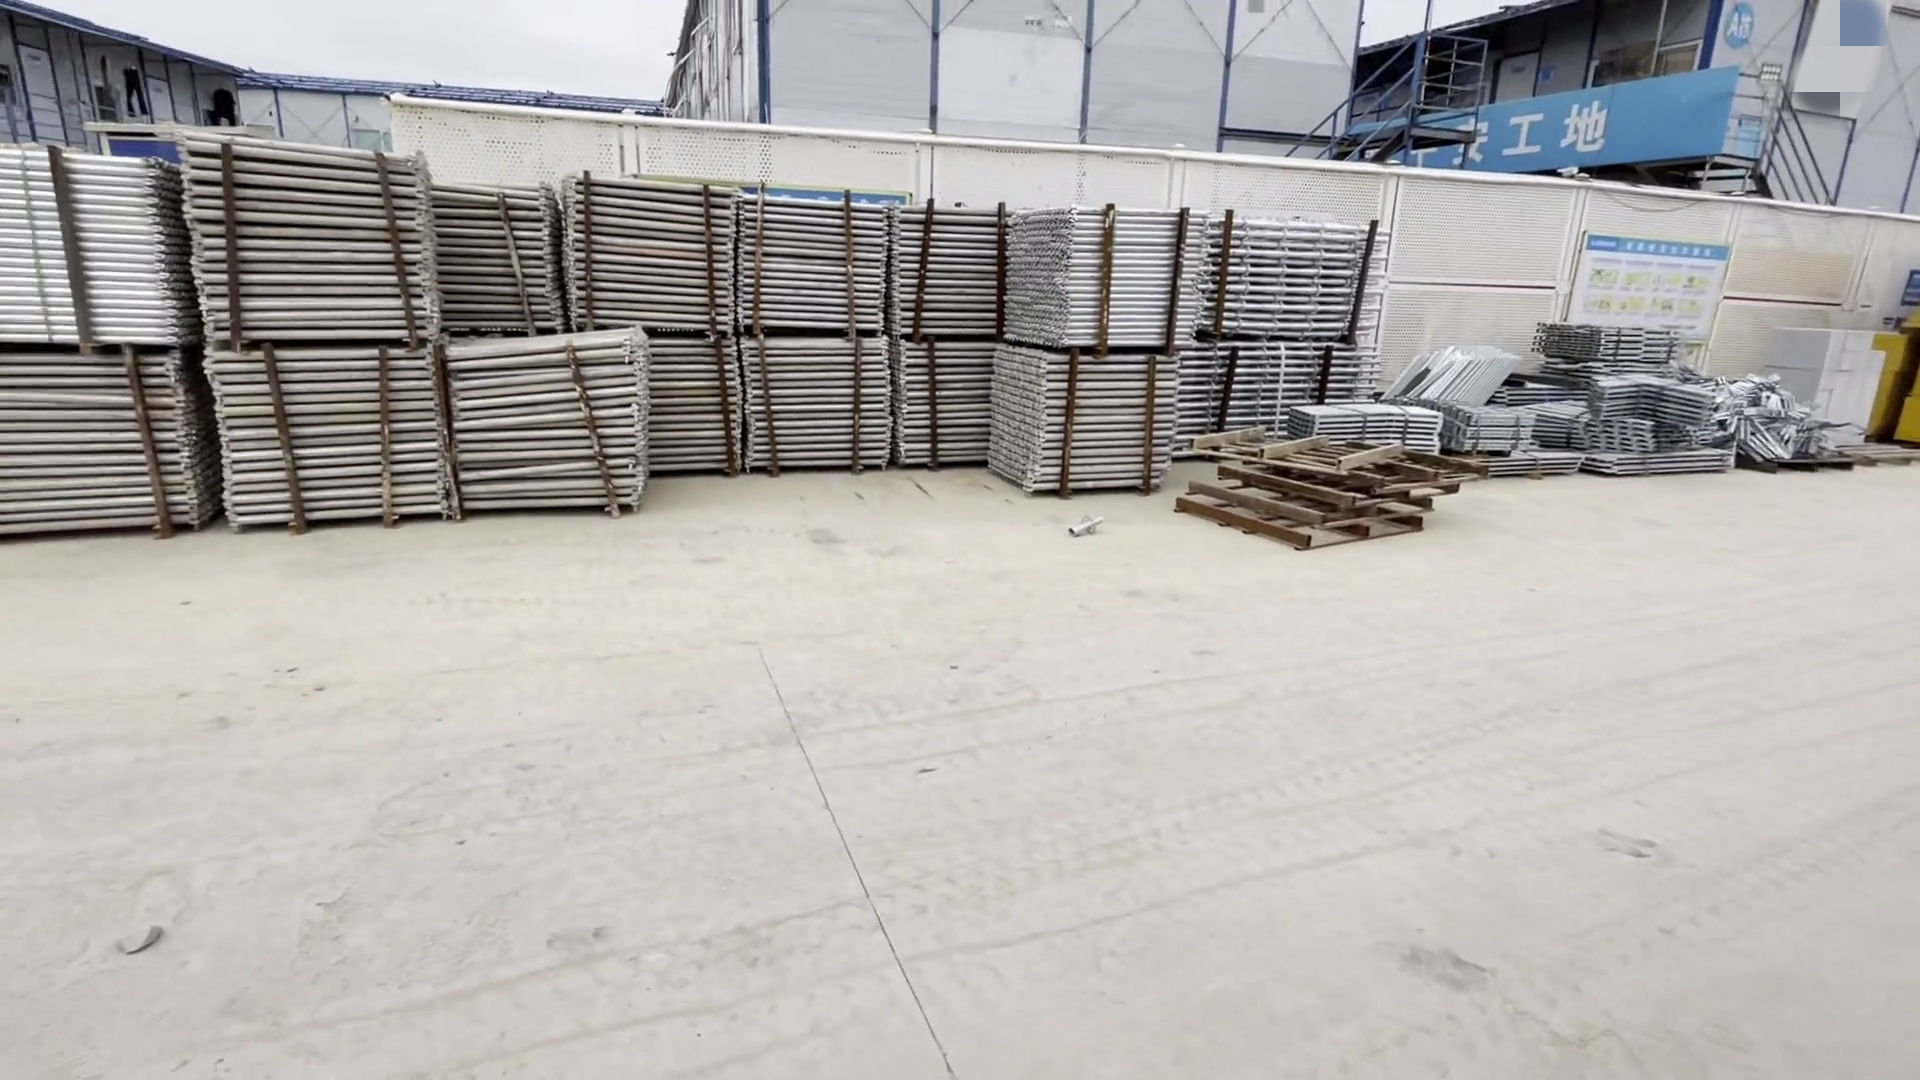scaffold: (1, 158, 1356, 502), (1365, 314, 1808, 518)
